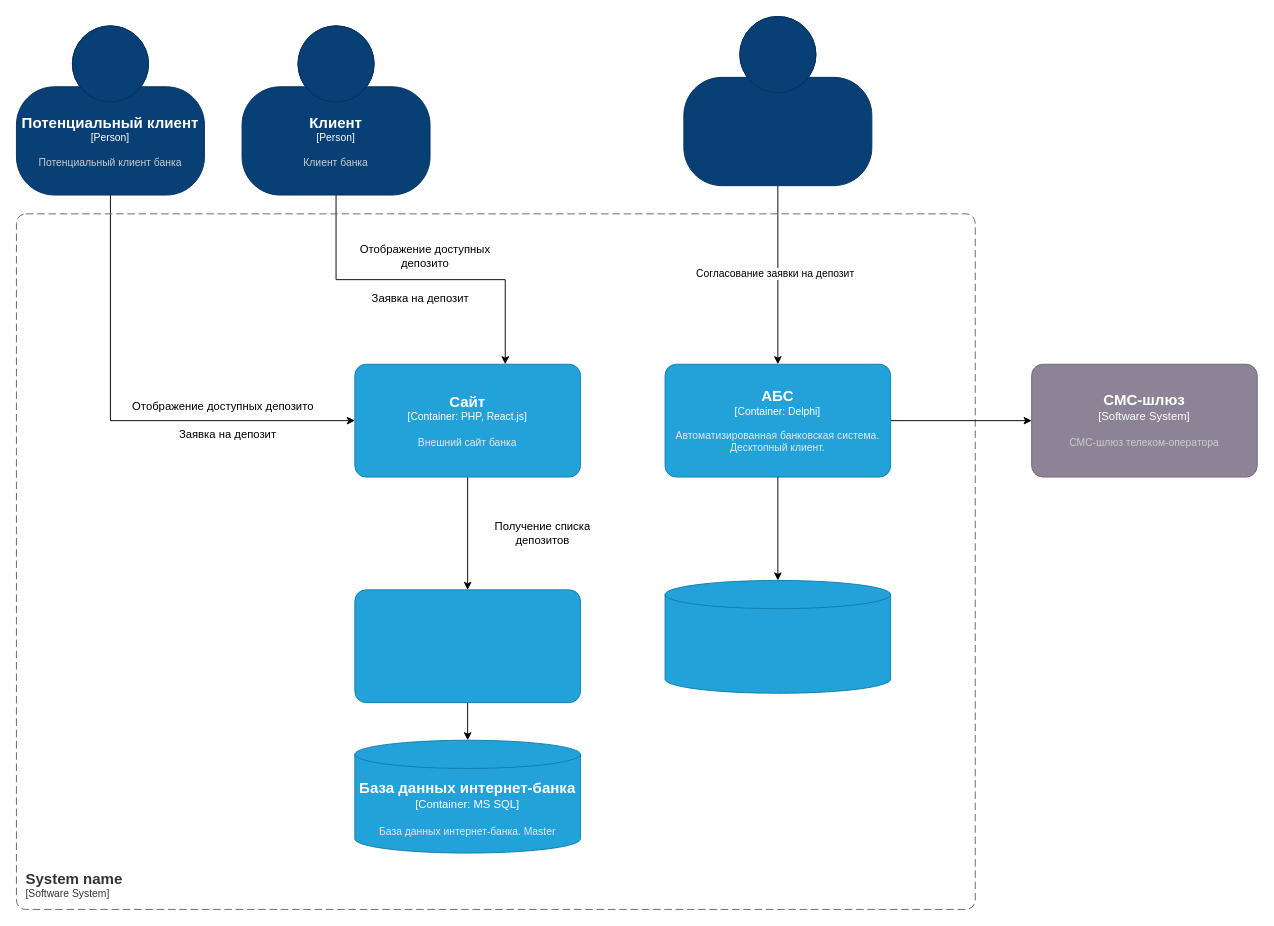
The diagram is 1274 pixels wide and 926 high, and some of its shapes have lost their labels. Each missing label, with the box of its shape:
База данных АБС [Container: Oracle Database] База данных АБС. RO Replica: (664, 580, 891, 693)
Интернет-банк [Container: ASP.NET MVC 4.5] Интернет-банк, выполняет функции CRM.: (354, 589, 580, 703)
Менеджер бэк-офиса [Person] Менеджер бэк-офиса банка: (683, 16, 872, 186)
